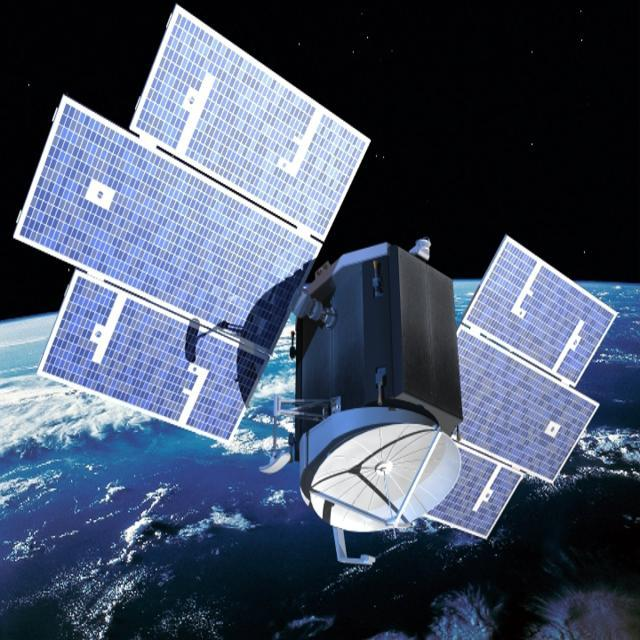sat: (12, 7, 624, 570)
